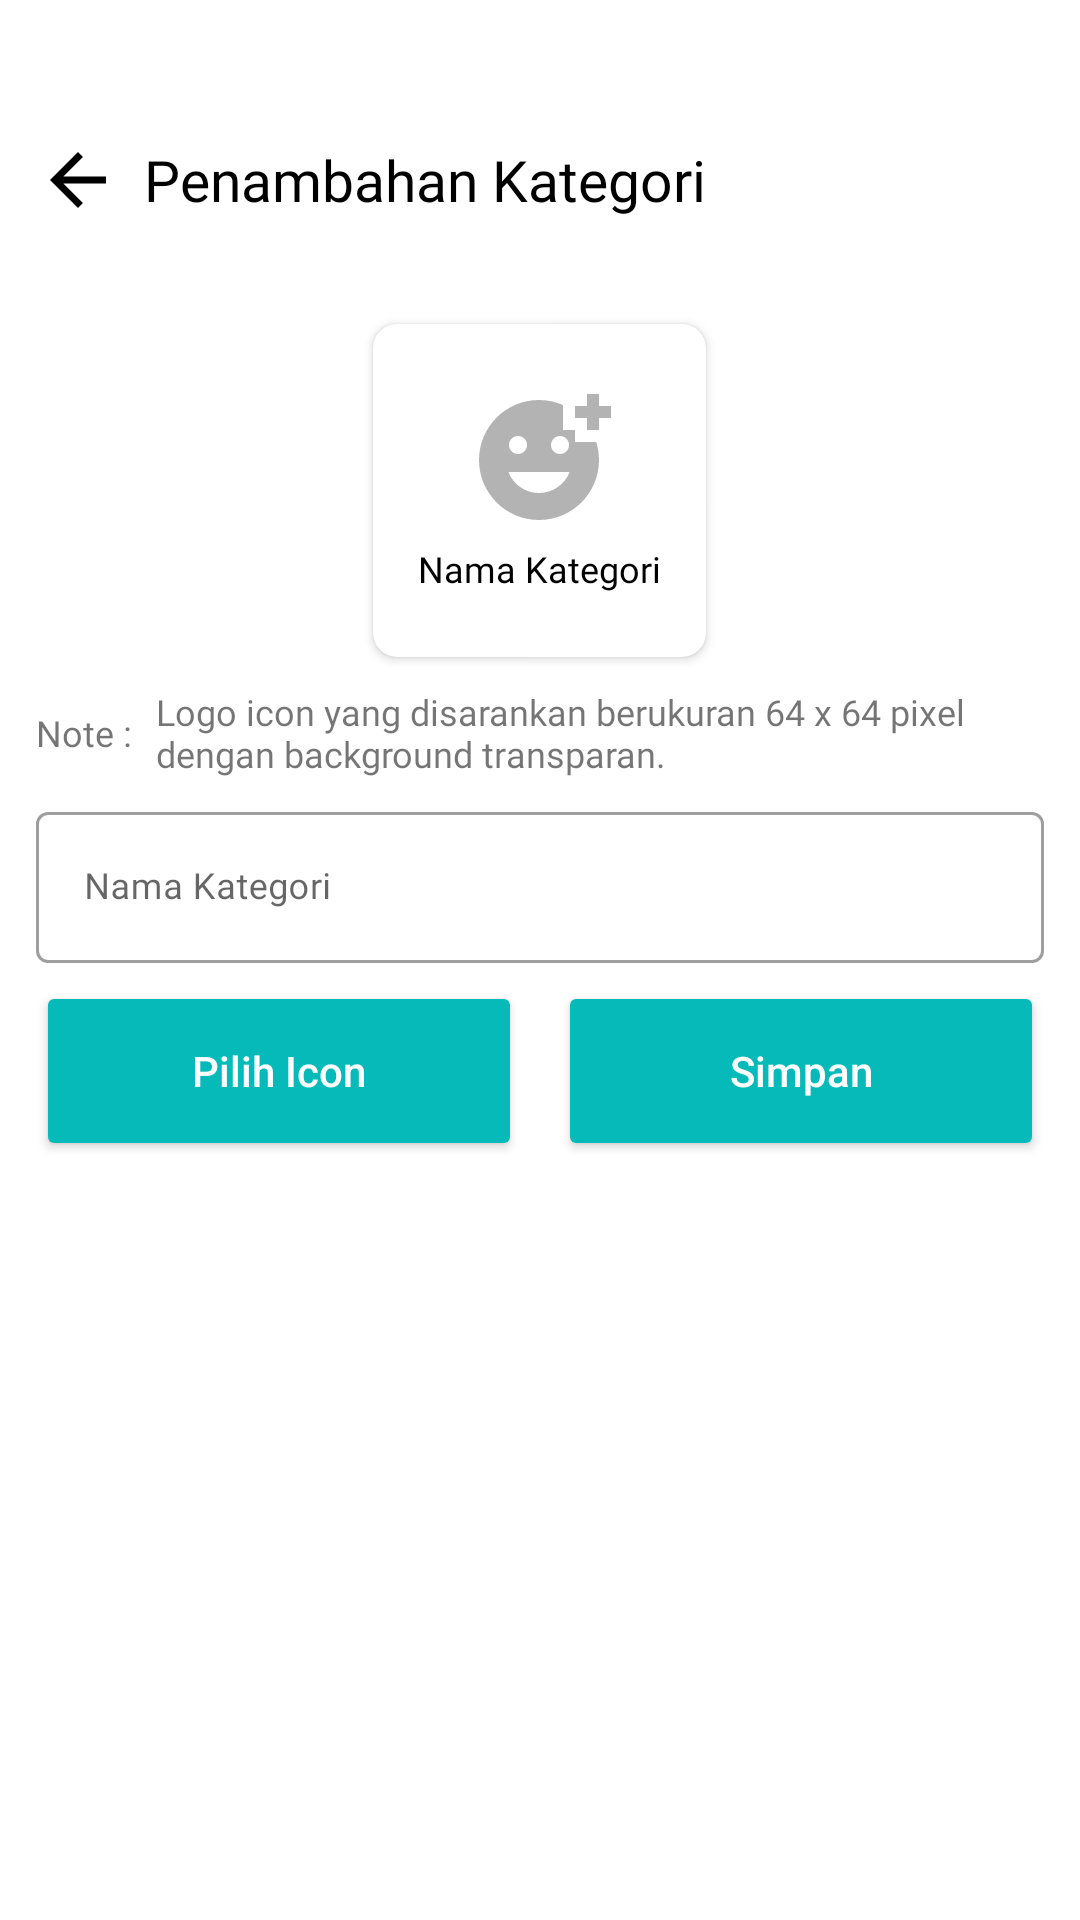

Where icons sit on this 1080*1920 app screen, as (x1, y1, x2, y2):
add: (479, 394, 611, 520)
arrow back: (50, 152, 106, 208)
